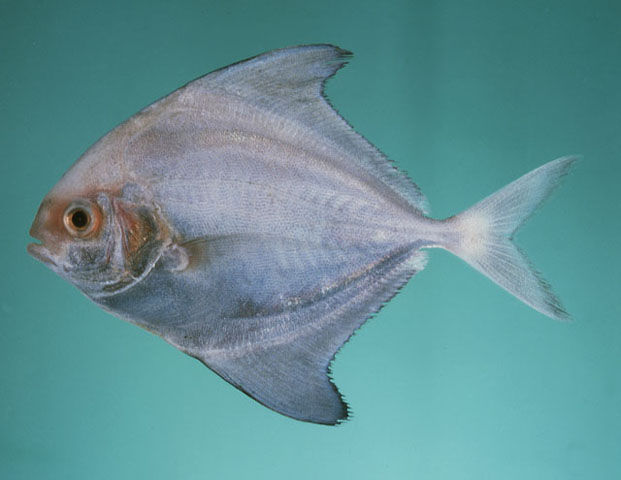fish: (27, 43, 581, 427)
